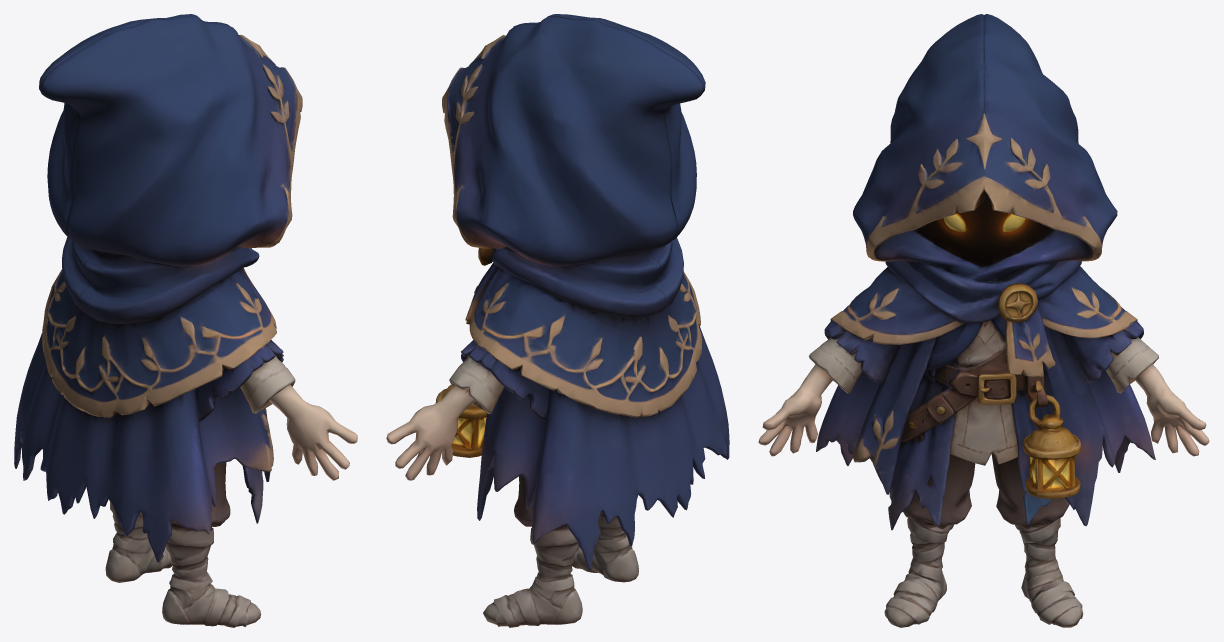
3 renders of one model, left to right at view 1: azimuth 30°, elevation 25°; view 2: azimuth 150°, elevation 25°; view 3: azimuth 270°, elevation 25°, orthographic. The views are drawn at different scales.
Parts seen in each view (by area): view 1: tripo_node_fce56f17-7ff4-4fea-b62c-863a885aad53; view 2: tripo_node_fce56f17-7ff4-4fea-b62c-863a885aad53; view 3: tripo_node_fce56f17-7ff4-4fea-b62c-863a885aad53.
Part boxes in pixels (x1,y1,x2,y2): tripo_node_fce56f17-7ff4-4fea-b62c-863a885aad53: [14, 14, 357, 627]; tripo_node_fce56f17-7ff4-4fea-b62c-863a885aad53: [386, 14, 729, 627]; tripo_node_fce56f17-7ff4-4fea-b62c-863a885aad53: [758, 14, 1209, 627].
Bounding box in the file's own units: 0.4593 × 1 × 0.7247.
Materials: 1 (1 with a texture image).
